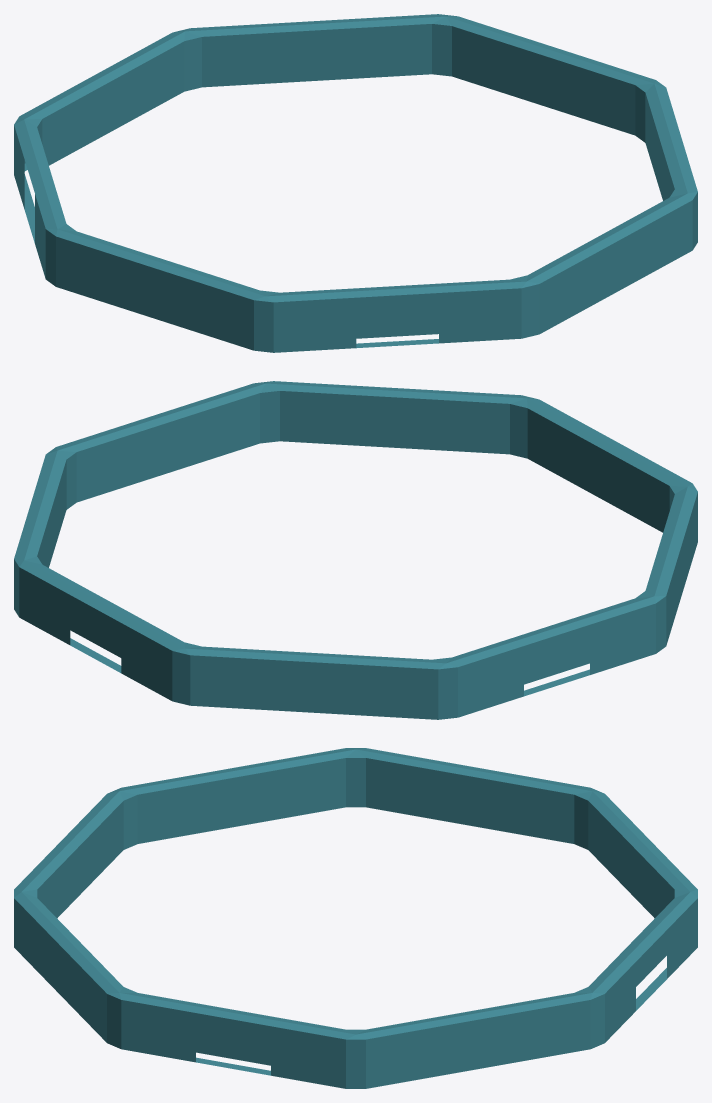
The model's file is Cenario_Jogo_Final_Paredes.fbx.
3 renders of one model, top to bottom at view 1: azimuth 30°, elevation 25°; view 2: azimuth 150°, elevation 25°; view 3: azimuth 270°, elevation 25°, orthographic. The views are drawn at different scales.
Visible parts, largest first — view 1: Paredes; view 2: Paredes; view 3: Paredes.
Boxes of the visible parts, bbox=[...] form: Paredes: bbox=[14, 14, 697, 352]; Paredes: bbox=[14, 381, 697, 719]; Paredes: bbox=[14, 748, 697, 1088].
Size of the model in its own units: 10223 by 838 by 10136.
